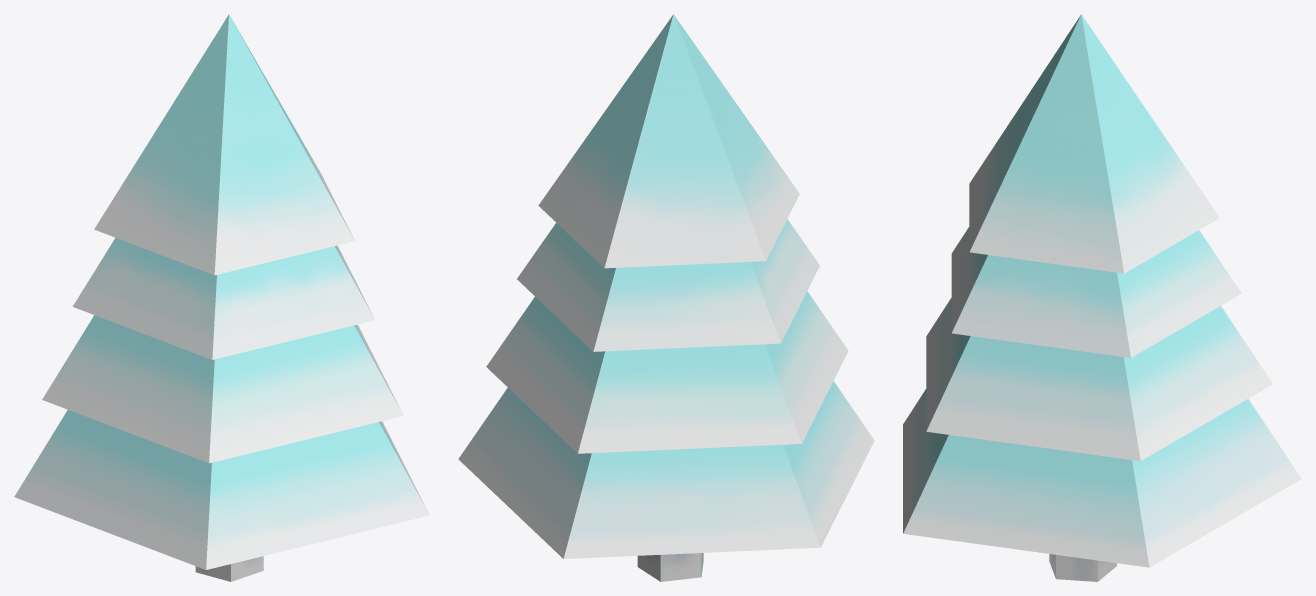
The model's file is pinheiro.fbx.
3 views of the same model, side by side, from view 1: azimuth 30°, elevation 25°; view 2: azimuth 150°, elevation 25°; view 3: azimuth 270°, elevation 25° (orthographic).
Visible parts, largest first — view 1: pinheiro; view 2: pinheiro; view 3: pinheiro.
Part boxes in pixels (<box>): pinheiro: <box>14,14,429,581</box>; pinheiro: <box>458,14,874,581</box>; pinheiro: <box>903,14,1301,581</box>.
Bounding box in the file's own units: 243 × 355 × 231.
